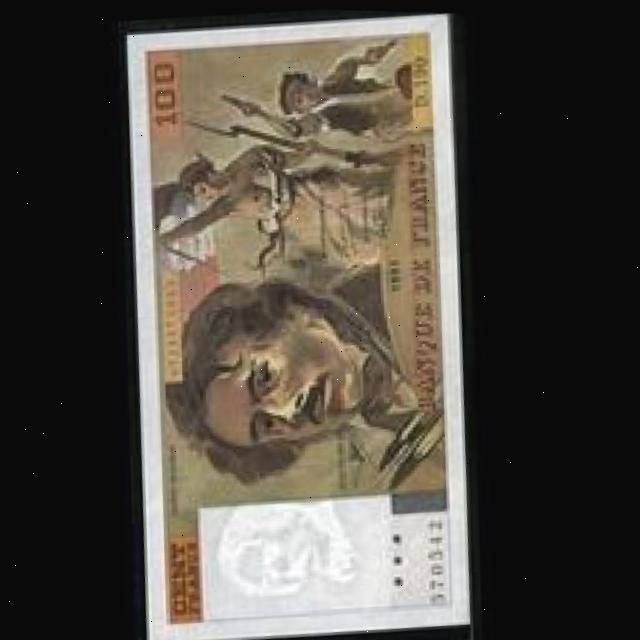banknote: (100, 3, 505, 640), (139, 54, 189, 130)
